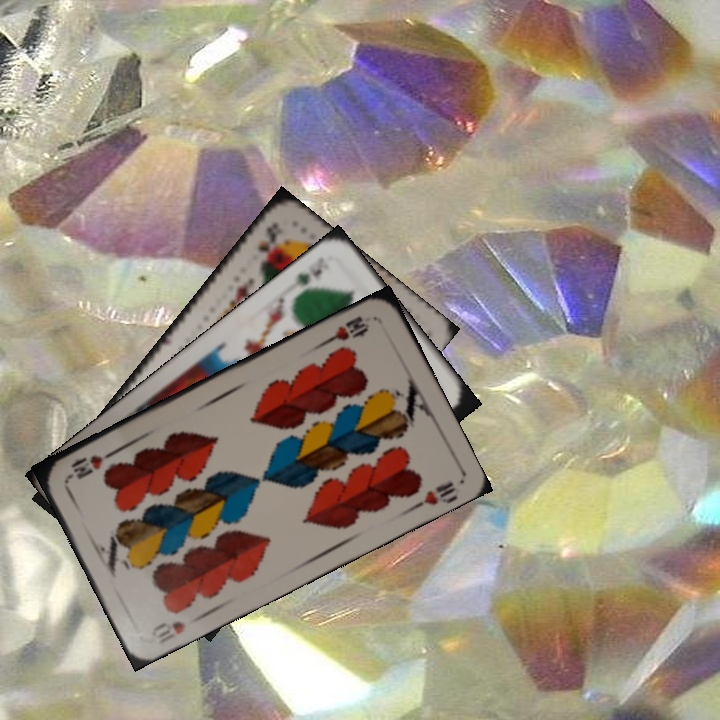GK: (291, 253, 332, 289)
H10: (321, 312, 372, 347), (147, 616, 189, 647)
SK: (253, 218, 285, 260)
